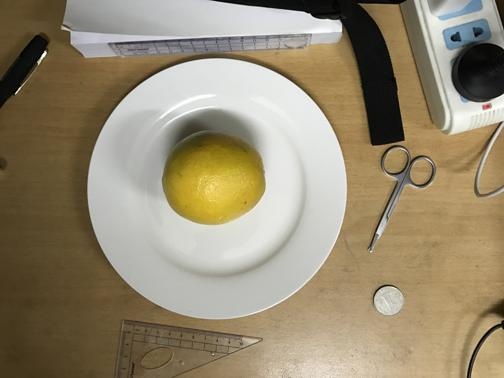coin: (373, 284, 405, 316)
orange: (162, 134, 267, 226)
